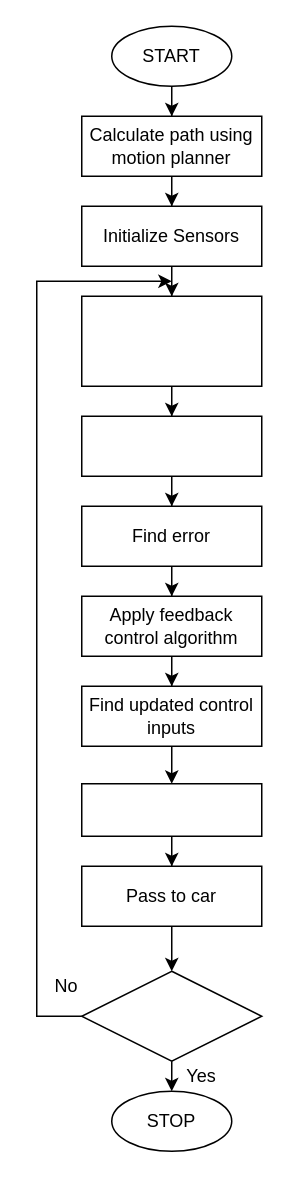
The diagram is 288 pixels wide and 1178 high, and some of its shapes have lost their labels. Here are the shapes that lost their labels. From the top down, the centre of each, then its label:
the point at 171,340: At 't' take states from motion planner for "t+1"
the point at 171,445: Get sensor data (actual states)
the point at 171,809: Generate PWM
the point at 171,1015: is x = x t y = y t ?
